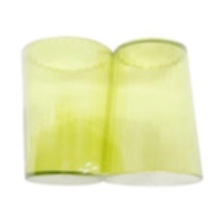glass: (103, 35, 210, 191), (13, 27, 115, 190)
